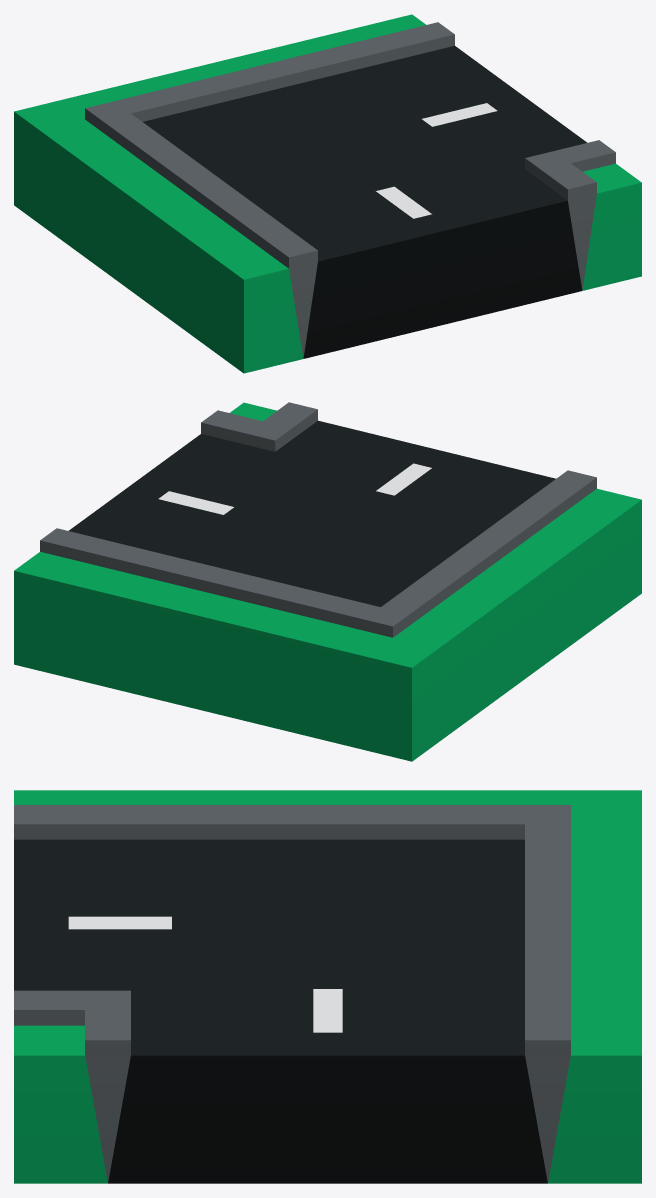
The model's file is ESQUINA.fbx.
3 renders of one model, top to bottom at view 1: azimuth 30°, elevation 25°; view 2: azimuth 150°, elevation 25°; view 3: azimuth 270°, elevation 25°, orthographic. The views are drawn at different scales.
Parts seen in each view (by area): view 1: esquina.001; view 2: esquina.001; view 3: esquina.001.
Boxes of the visible parts, x1,y1,x2,y2 form: esquina.001: (14, 14, 641, 373); esquina.001: (14, 402, 641, 761); esquina.001: (14, 790, 641, 1183).
Size of the model in its own units: 900 by 900 by 227.
Materials: 1 (1 with a texture image).
